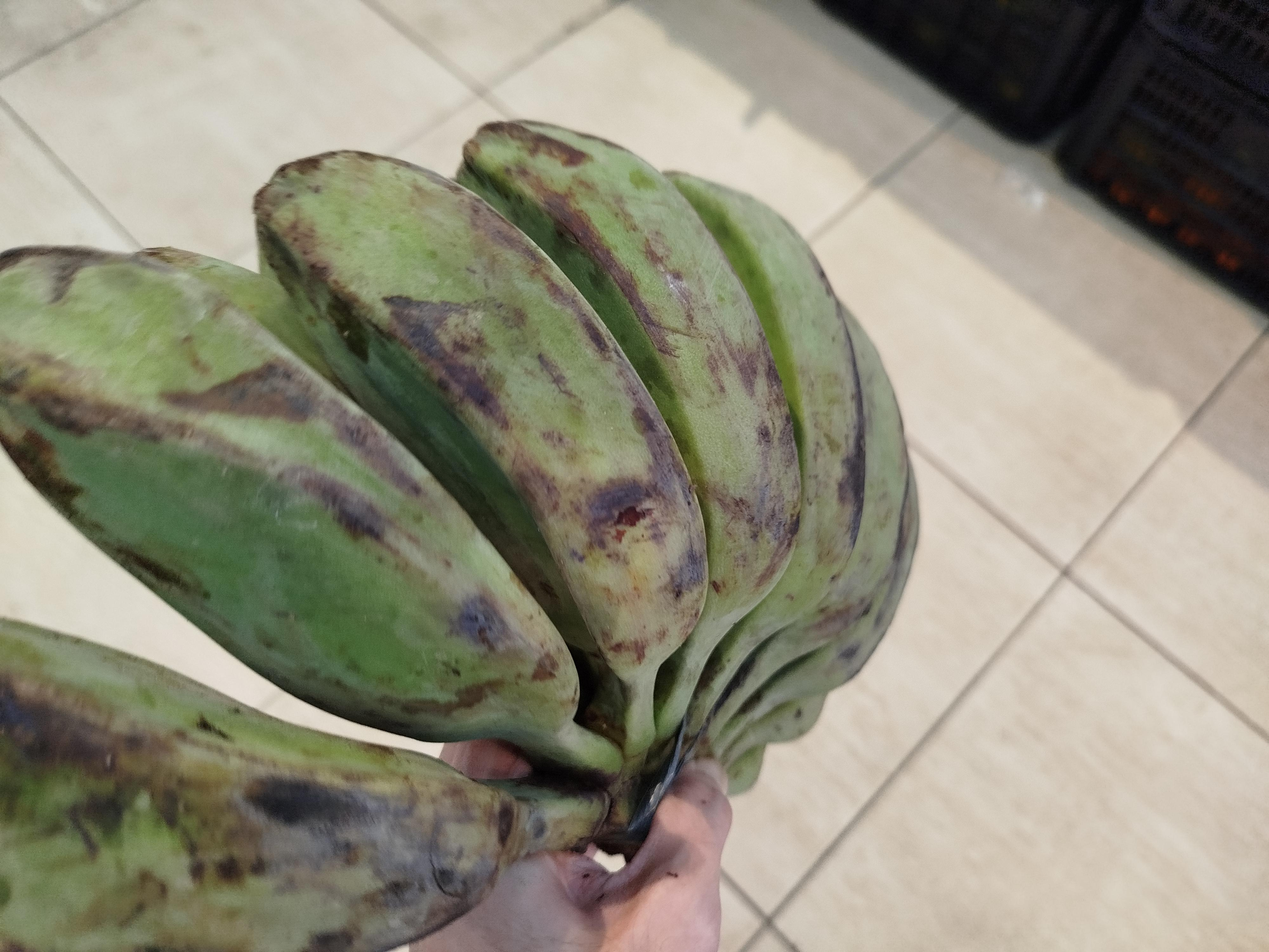underripe: (0, 124, 918, 952)
